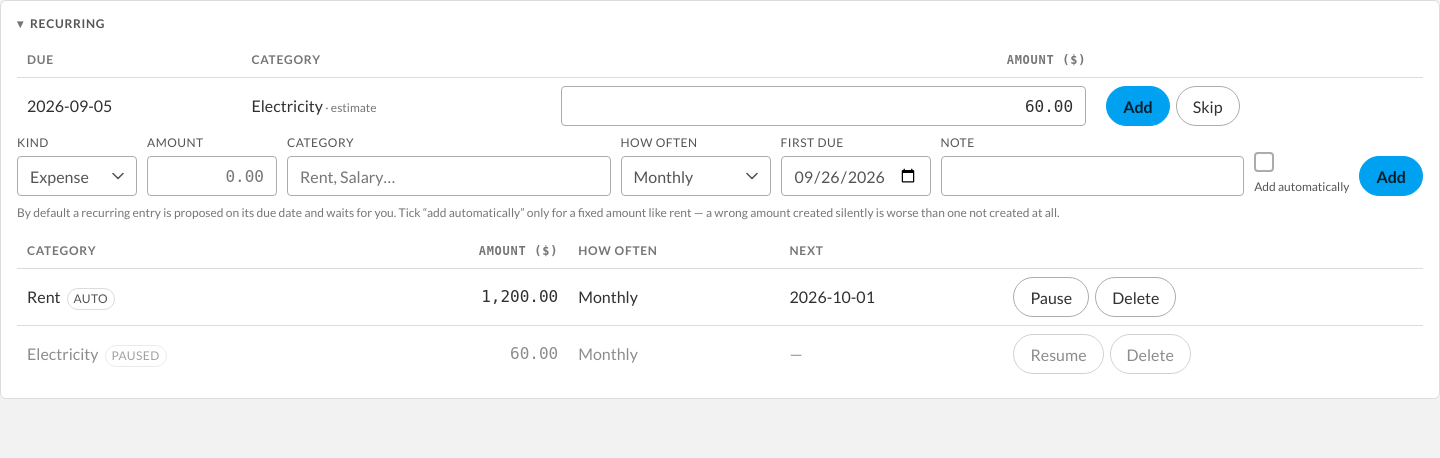
Test: RecurringCard › refuses a corrected amount that is not money, before it reaches the server
The image size is (1440, 458).
Expected: the table named "Entries to confirm" is shown, [17, 43, 1423, 134]
Step 1. Replace the text in the field named "Amount for Electricity due 2026-09-05" with "12.345" → (823, 106), box [561, 86, 1086, 126]
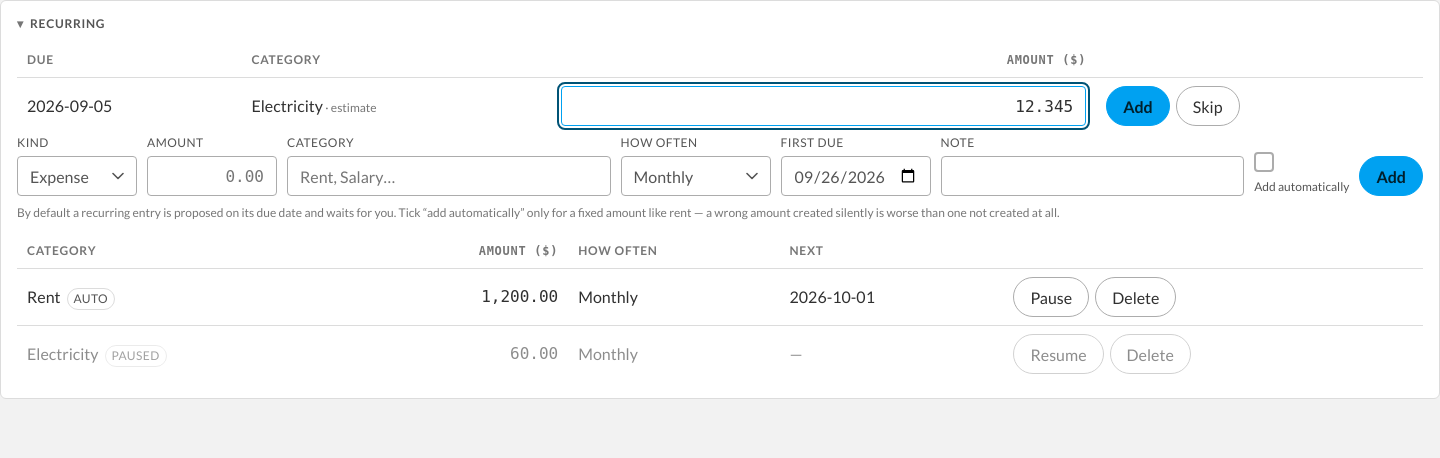
Step 2. Click the button with aria-label "Add Electricity due 2026-09-05" → click(1138, 106), box [1106, 86, 1170, 126]
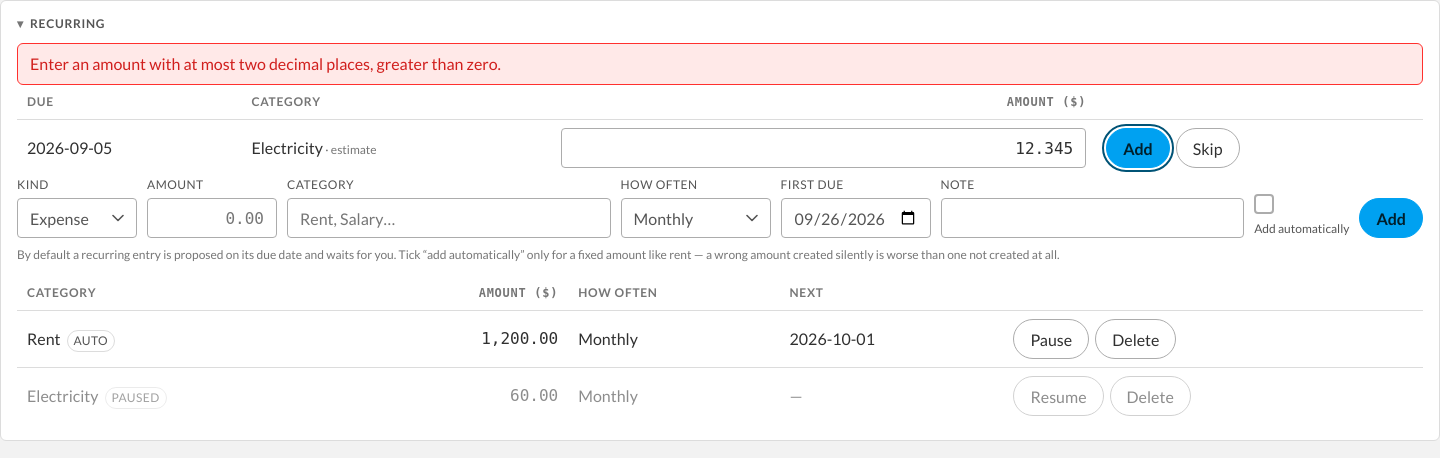
Expected: the message shows "at most two decimal places", [30, 54, 501, 73]
